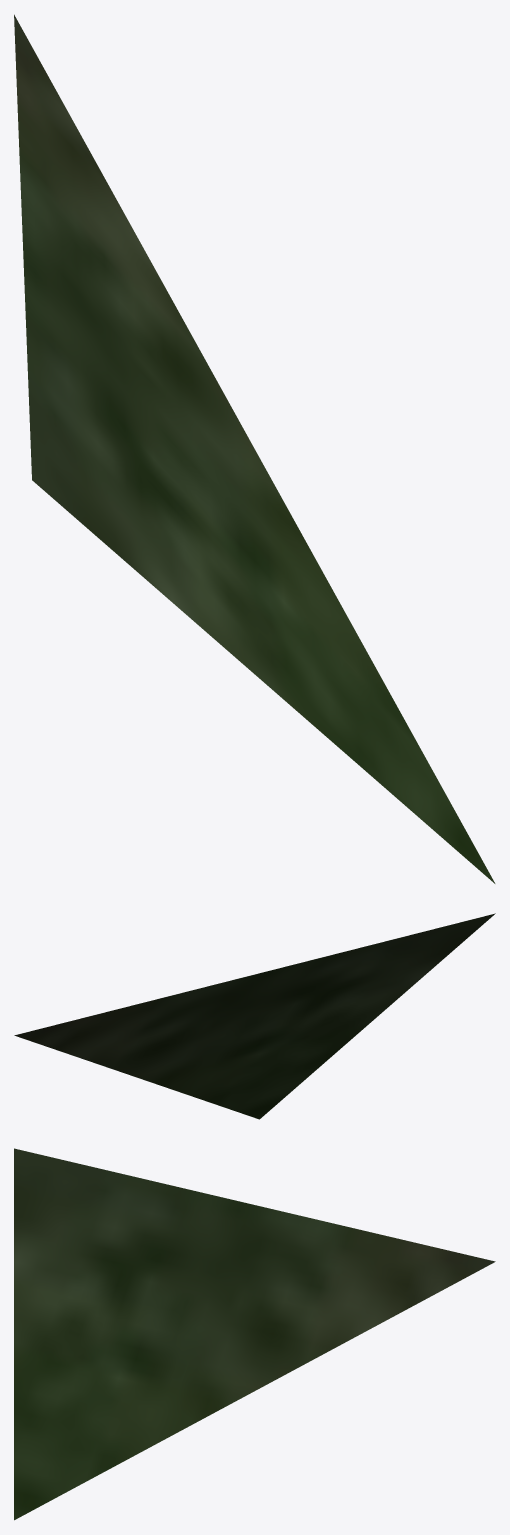
3 renders of one model, top to bottom at view 1: azimuth 30°, elevation 25°; view 2: azimuth 150°, elevation 25°; view 3: azimuth 270°, elevation 25°, orthographic. The views are drawn at different scales.
Size of the model in its own units: 0.2649 by 0.2825 by 0.4767.
1 material, 1 textured.
